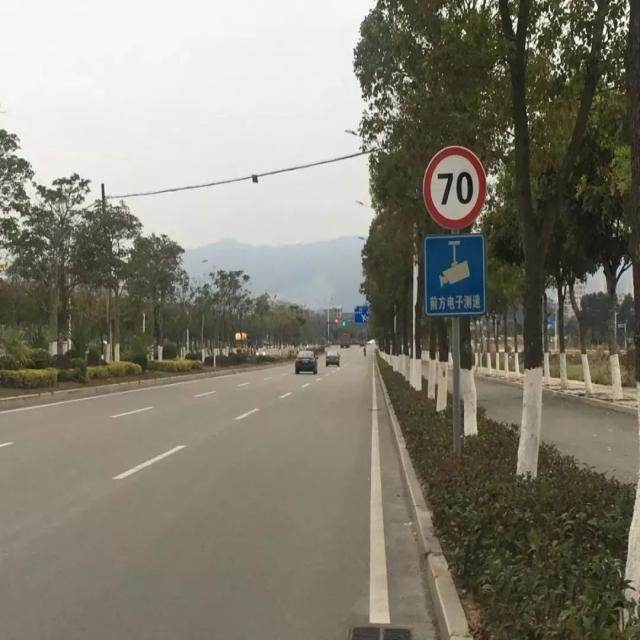speed limit 70: (422, 146, 486, 233)
